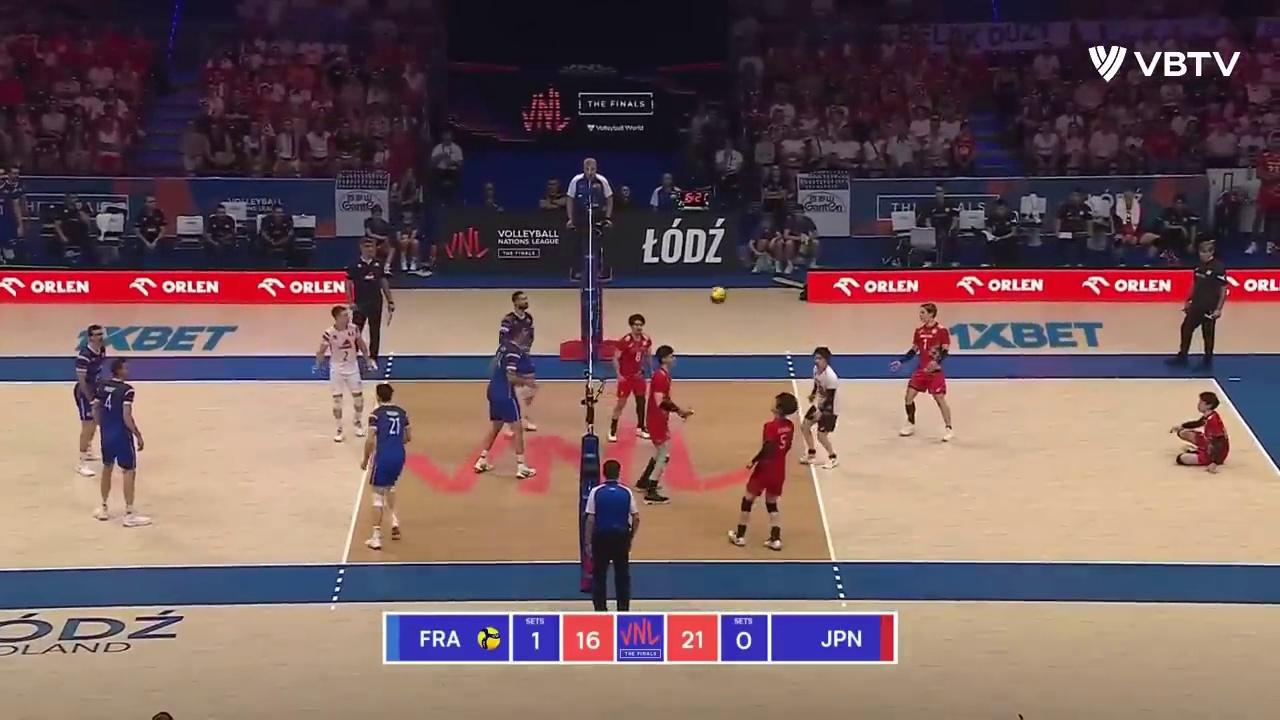ball: (708, 288, 728, 303)
